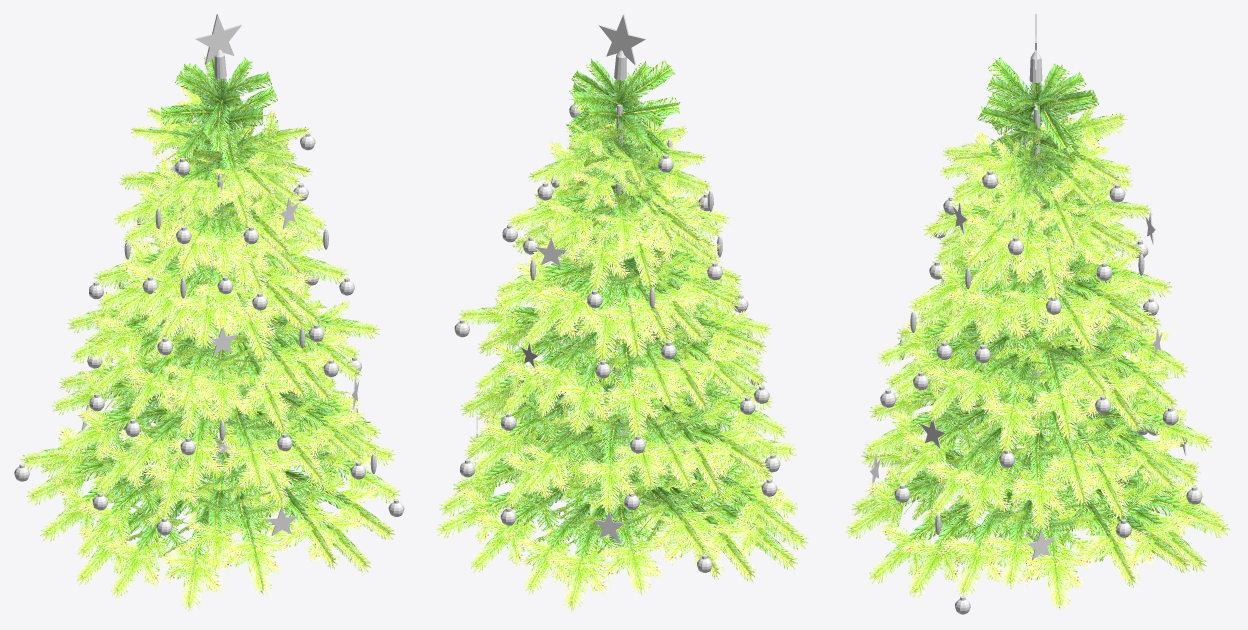
File: scene OLD.gltf
The picture shows the model from 3 angles, left to right: view 1: azimuth 30°, elevation 25°; view 2: azimuth 150°, elevation 25°; view 3: azimuth 270°, elevation 25°; orthographic projection. The views are drawn at different scales.
Parts seen in each view (by area): view 1: leaves_Plane.085, star.001_Circle.001; view 2: leaves_Plane.085, star.001_Circle.001, Cylinder; view 3: leaves_Plane.085, Cylinder.
Boxes of the visible parts, <box> form: leaves_Plane.085: <box>20,56,400,611</box>; star.001_Circle.001: <box>195,14,241,79</box>; leaves_Plane.085: <box>436,58,807,611</box>; star.001_Circle.001: <box>598,14,646,80</box>; Cylinder: <box>608,104,630,555</box>; leaves_Plane.085: <box>845,57,1229,609</box>; Cylinder: <box>1026,107,1045,566</box>.
Bounding box in the file's own units: 1.31 × 2.03 × 1.32.
88 materials, 1 textured.
